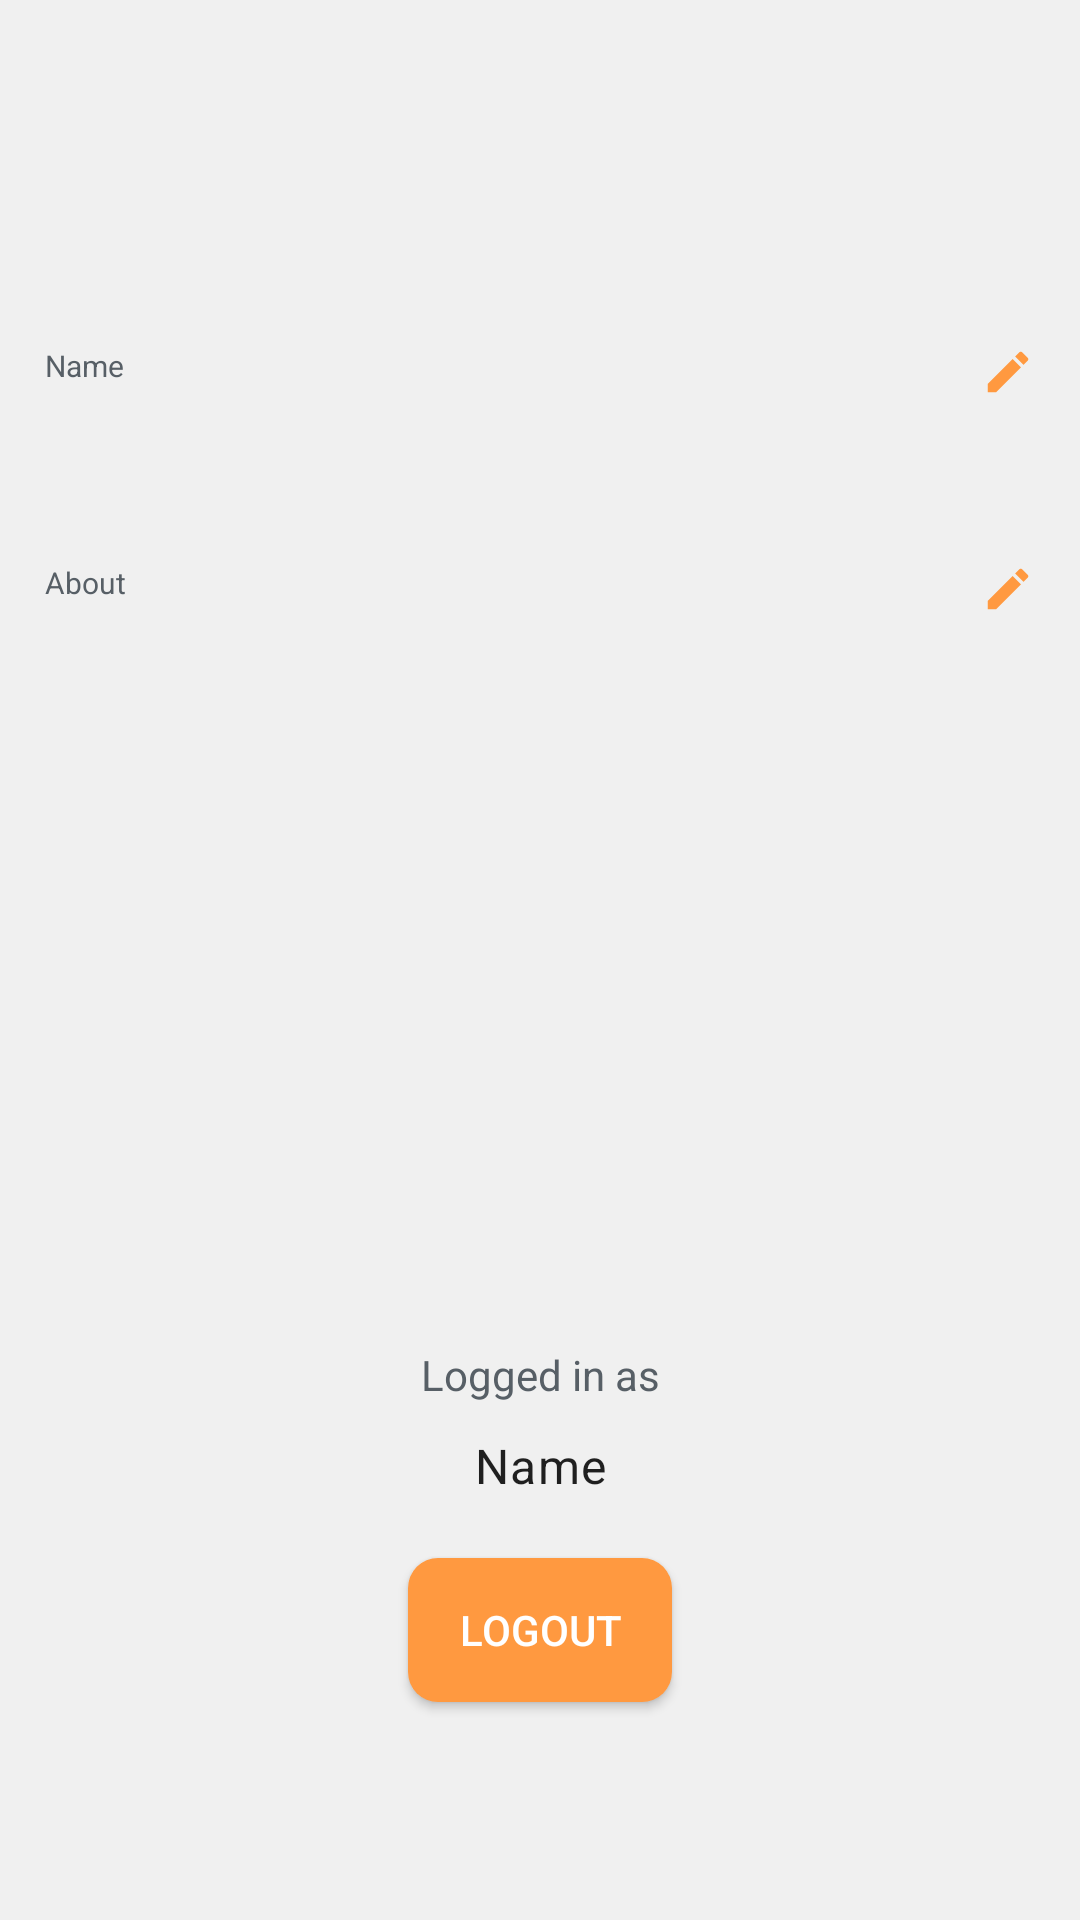

Icons on this 1080px x 1920px Android screen, each with the point to tap as (x,y):
edit: (1008,372), (1008,589)
